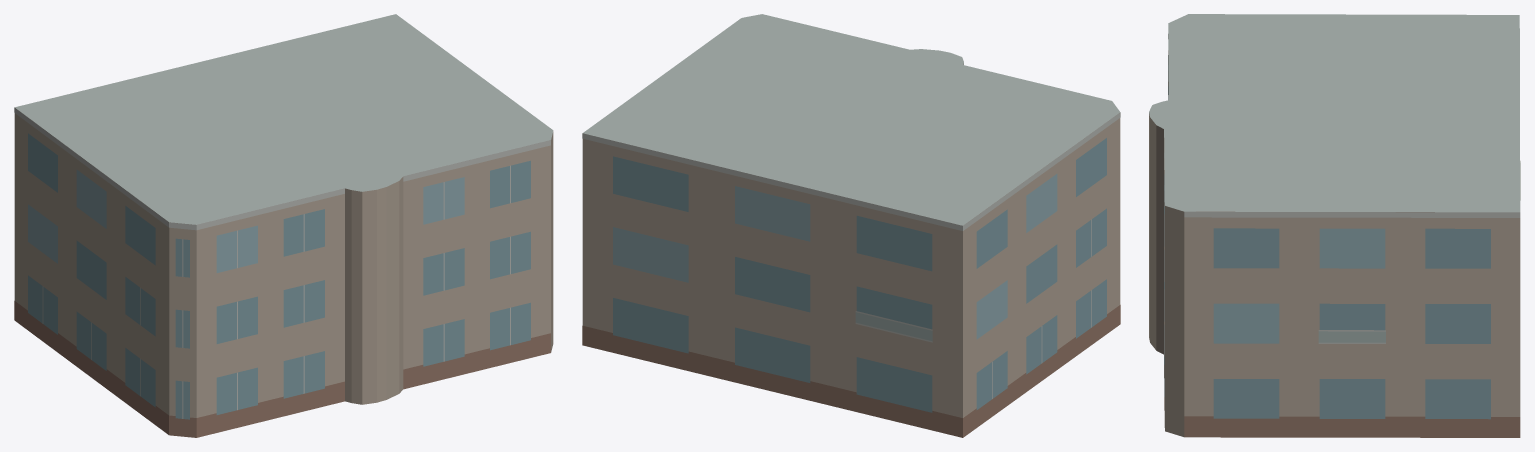
File: survey-upis-32907307.glb
The picture shows the model from 3 angles, left to right: view 1: azimuth 30°, elevation 25°; view 2: azimuth 150°, elevation 25°; view 3: azimuth 270°, elevation 25°; orthographic projection. The views are drawn at different scales.
Parts seen in each view (by area): view 1: survey-upis-32907307.tmp; view 2: survey-upis-32907307.tmp; view 3: survey-upis-32907307.tmp.
Part boxes in pixels (left/top/right/bottom): survey-upis-32907307.tmp: left=14, top=14, right=553, bottom=437; survey-upis-32907307.tmp: left=582, top=14, right=1120, bottom=437; survey-upis-32907307.tmp: left=1149, top=14, right=1520, bottom=437.
Bounding box in the file's own units: 18.11 × 9.6 × 14.34.
